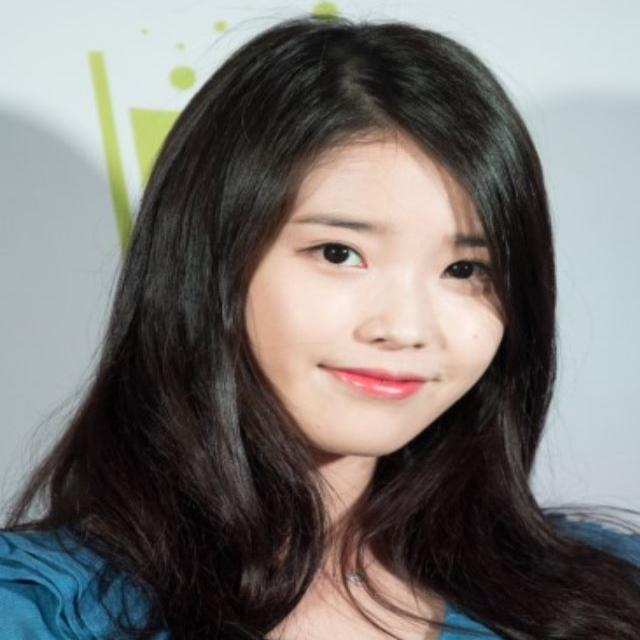face: (248, 135, 516, 457)
